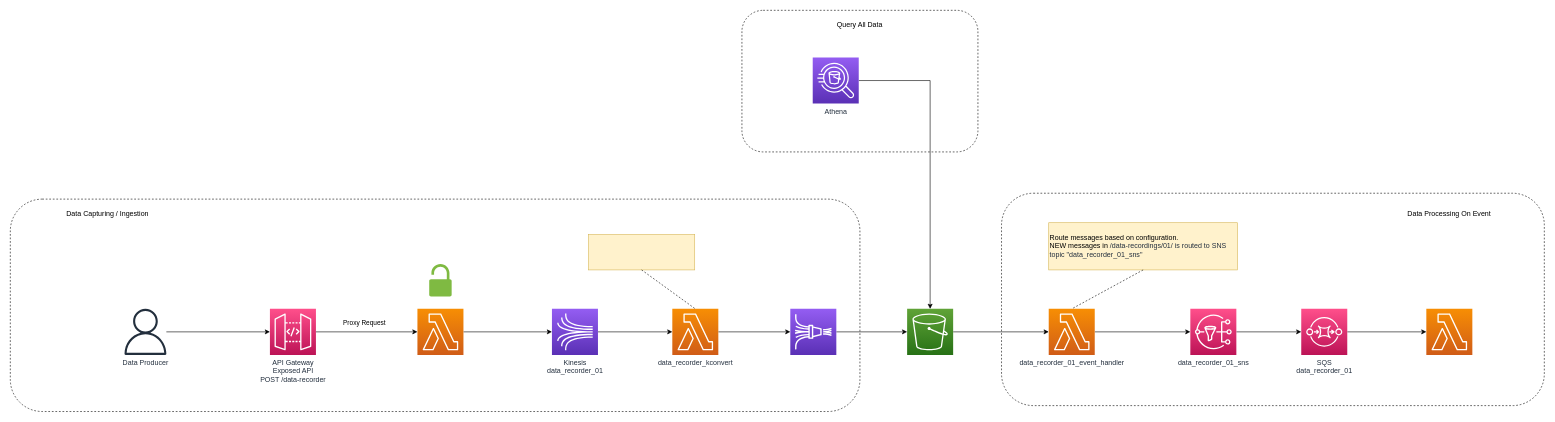
Image size: 1555x422. Some labels were removed from this diagram. Here are the shapes that lost their labels. From the top down, the box of each, then its label:
(588, 234, 695, 270): Converts the data to CSV
(417, 308, 463, 355): data_recorder_01
(790, 308, 836, 355): Firehose data_recorder_01
(907, 308, 953, 355): data-recorder-bucket /data-recordings/01
(1426, 308, 1472, 355): data_recorder_01_s3_event_handler
